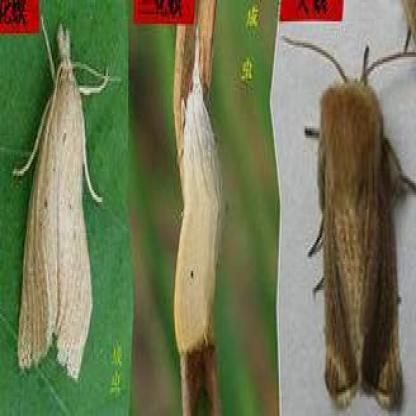stem-borer: (281, 29, 416, 406), (8, 12, 122, 388), (174, 32, 224, 355)
